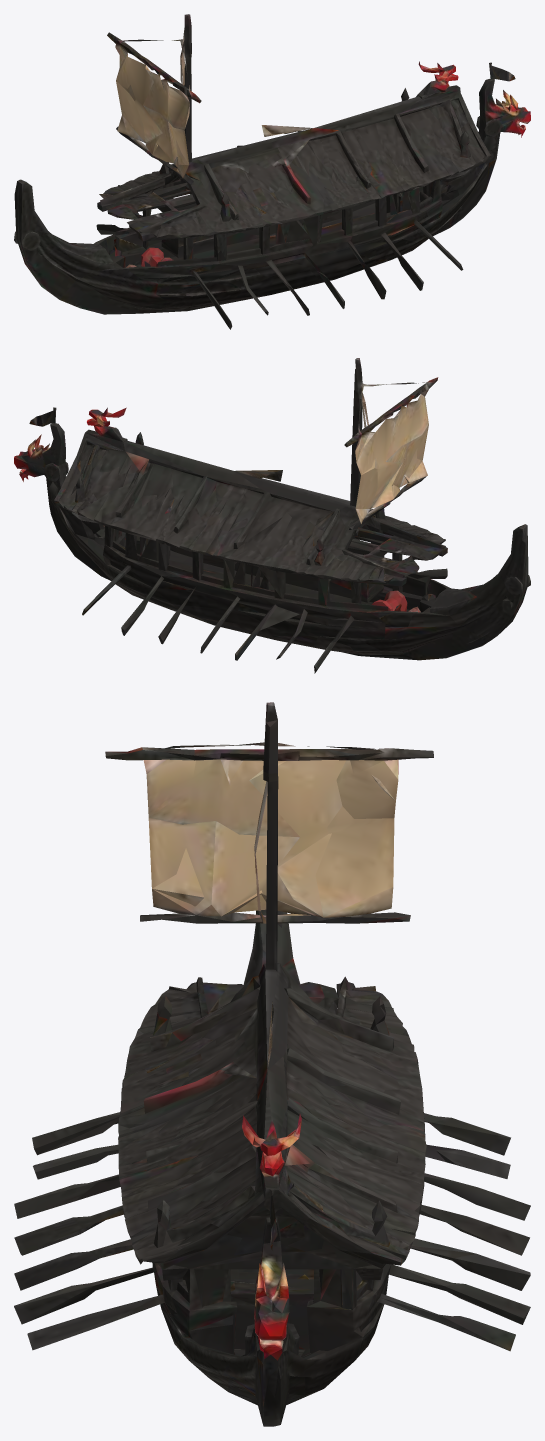
The model's file is ship_turtle.glb.
The picture shows the model from 3 angles, top to bottom: view 1: azimuth 30°, elevation 25°; view 2: azimuth 150°, elevation 25°; view 3: azimuth 270°, elevation 25°; orthographic projection. The views are drawn at different scales.
Bounding box in the file's own units: 1.9 × 1.05 × 0.925.
1 material, 1 textured.
